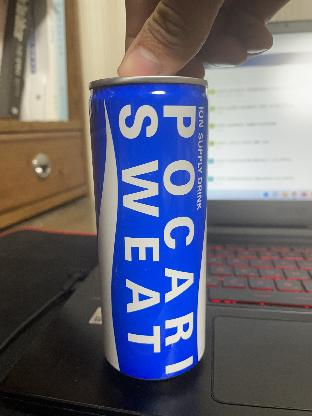Can: (96, 73, 202, 384)
